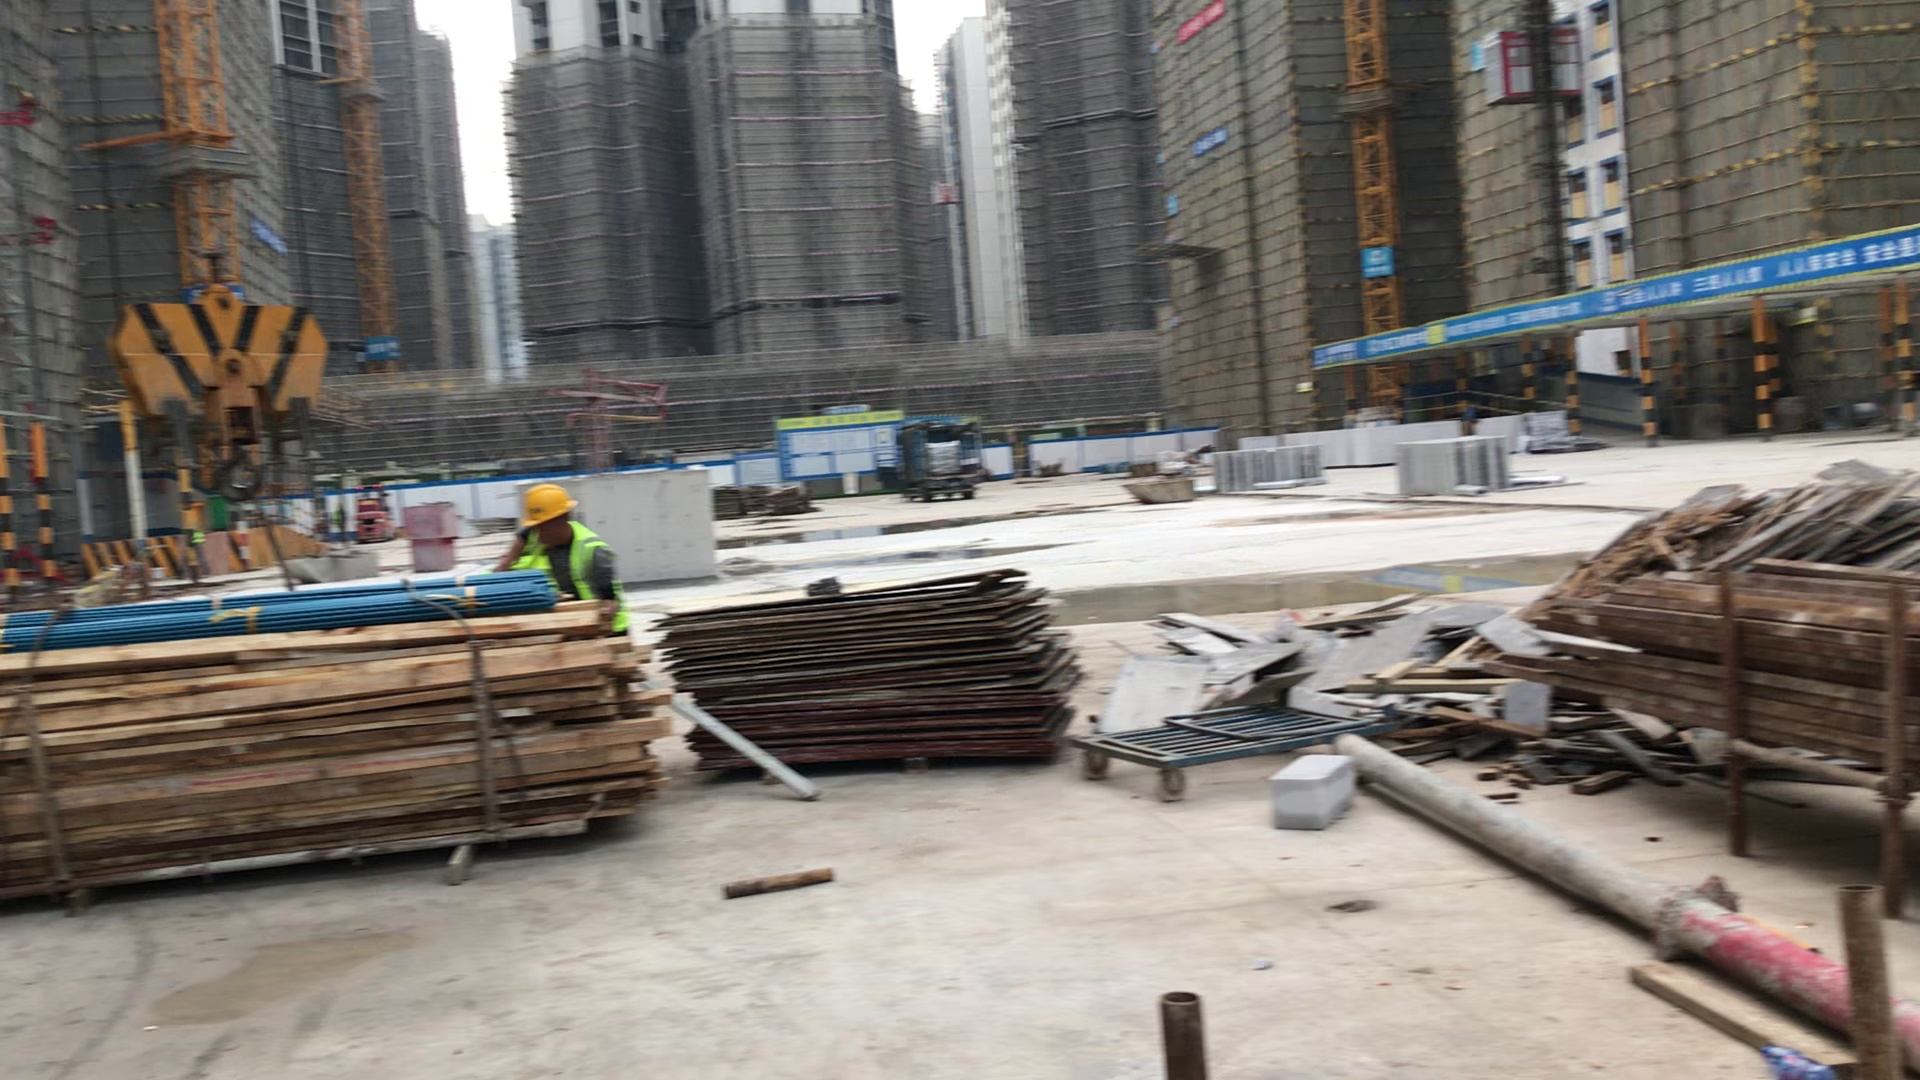board: (678, 585, 1062, 761)
helmet: (520, 486, 577, 526)
hook: (115, 254, 329, 508)
hopper: (283, 551, 374, 583), (1123, 477, 1196, 506)
person: (496, 487, 632, 658), (185, 530, 205, 591)
slogan: (1433, 234, 1920, 334), (1175, 1, 1232, 43), (1367, 331, 1428, 356), (1189, 131, 1235, 158), (251, 220, 283, 257)
vest: (532, 538, 619, 638)
wood: (1, 649, 638, 891)
